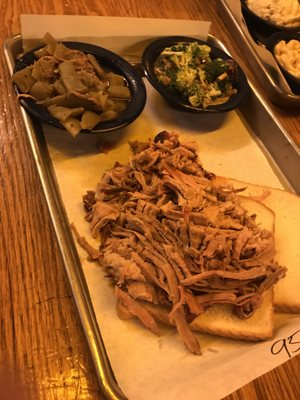soup: (79, 129, 289, 357)
sushi: (4, 33, 147, 143), (140, 35, 250, 114)
